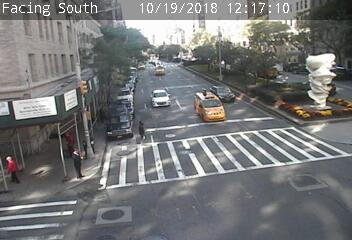carw: (194, 89, 225, 122), (213, 83, 237, 103), (151, 89, 173, 106)
